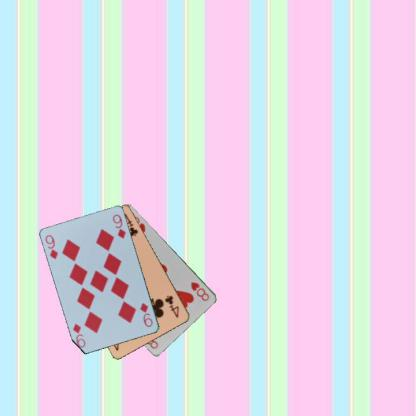4c: (162, 293, 180, 319)
8h: (188, 279, 210, 302)
9d: (42, 232, 60, 261), (138, 301, 154, 328)
